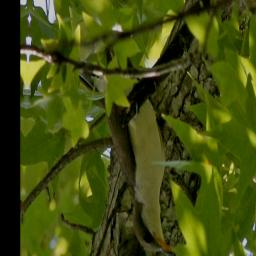Cuckoo: (72, 43, 184, 256)
